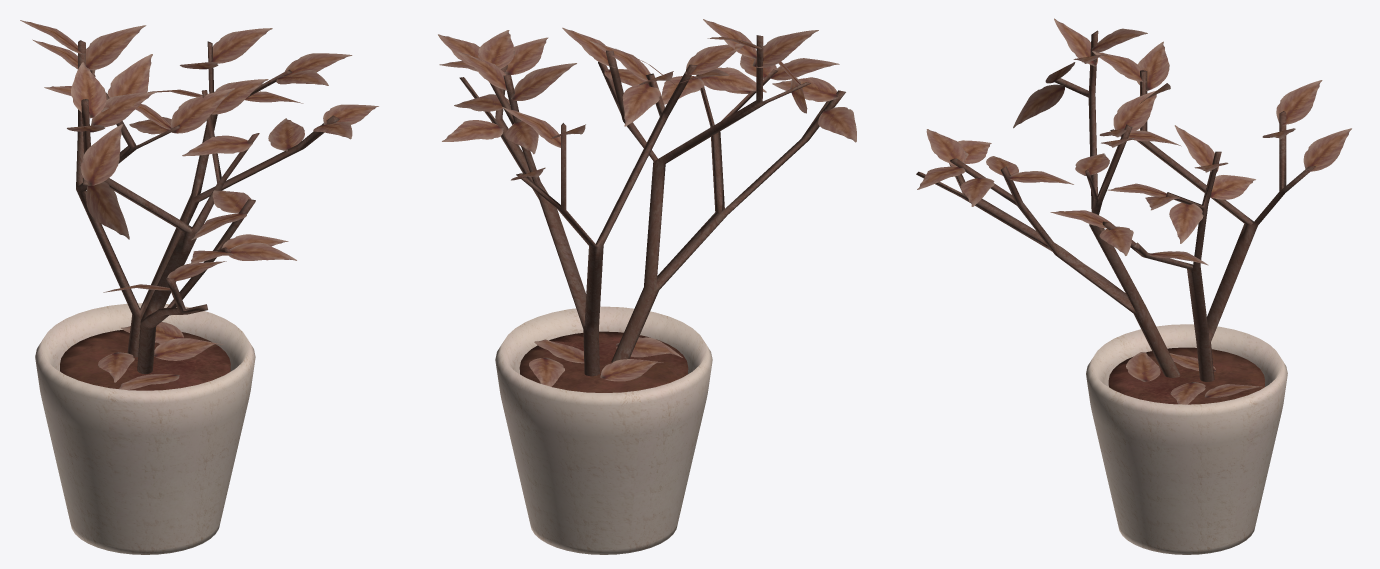
Rendered from plante dead.FBX.
3 views of the same model, side by side, from view 1: azimuth 30°, elevation 25°; view 2: azimuth 150°, elevation 25°; view 3: azimuth 270°, elevation 25° (orthographic). The views are drawn at different scales.
Parts seen in each view (by area): view 1: plante dead; view 2: plante dead; view 3: plante dead.
Boxes of the visible parts, box(x1,y1,x2,y2) form: plante dead: box(20, 20, 378, 554); plante dead: box(438, 19, 856, 554); plante dead: box(916, 18, 1351, 554).
Size of the model in its own units: 0.6845 by 0.9013 by 0.816.
